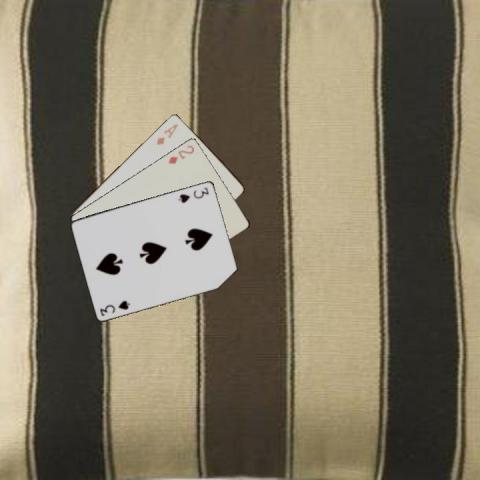2d: (166, 141, 196, 166)
3s: (175, 184, 210, 204), (97, 298, 131, 318)
Ad: (154, 121, 180, 146)
